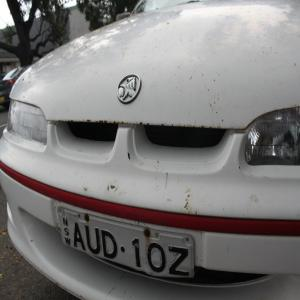Vehicle-registration-plate: (59, 210, 195, 282)
